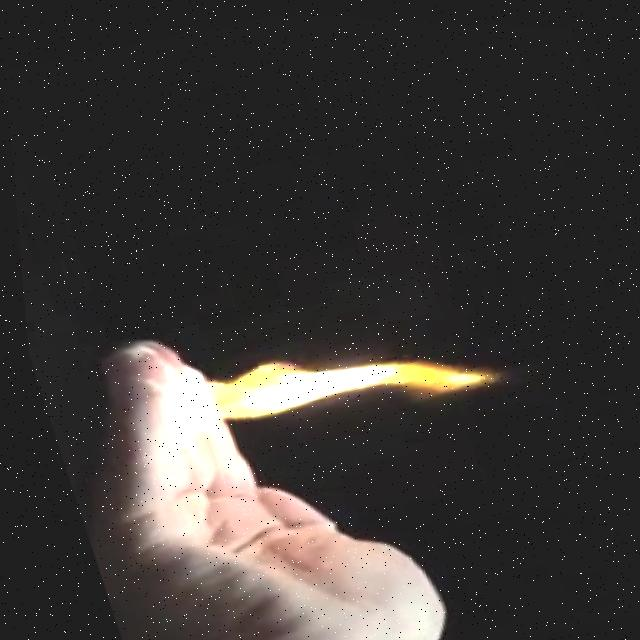Fire: (135, 290, 508, 467)
